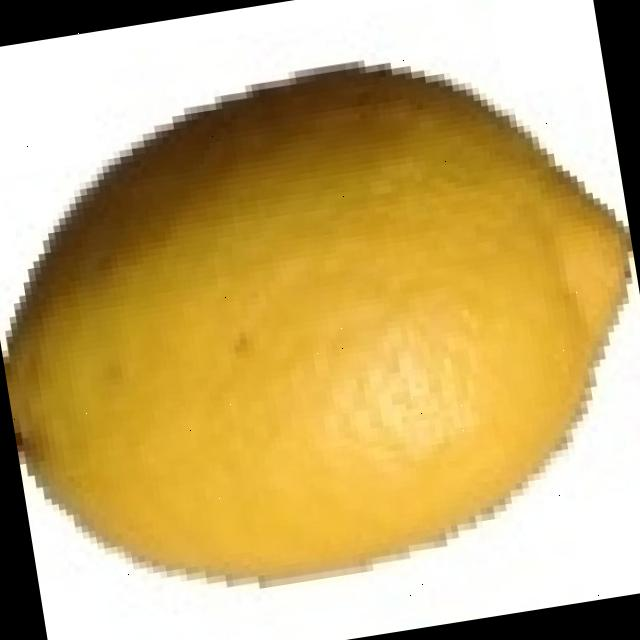lemon: (2, 66, 633, 582), (354, 285, 361, 292)
